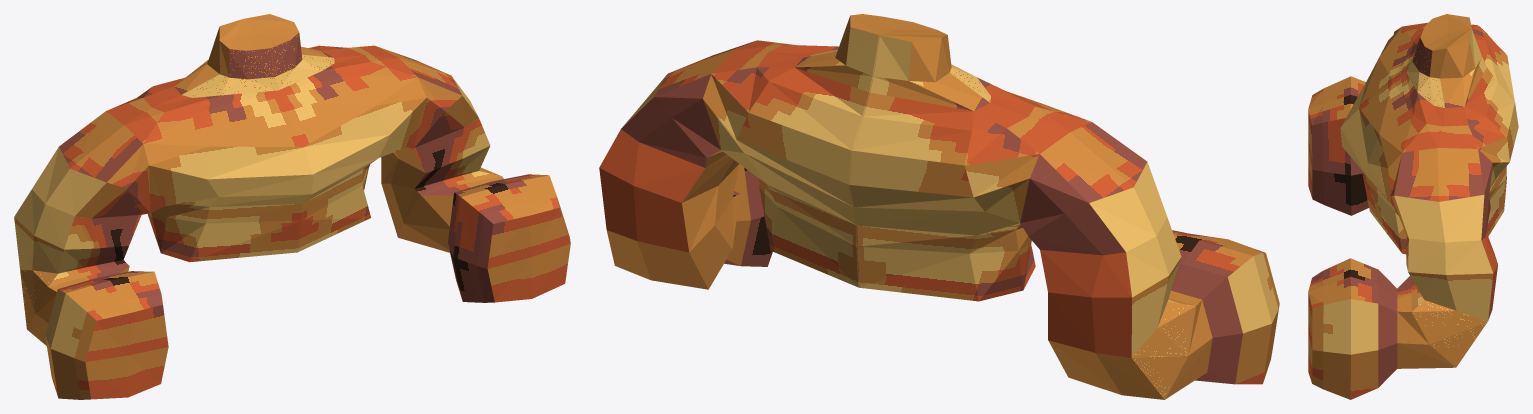
3 renders of one model, left to right at view 1: azimuth 30°, elevation 25°; view 2: azimuth 150°, elevation 25°; view 3: azimuth 270°, elevation 25°, orthographic. The views are drawn at different scales.
Parts seen in each view (by area): view 1: Sphere.017_Sphere.018; view 2: Sphere.017_Sphere.018; view 3: Sphere.017_Sphere.018.
Part boxes in pixels (bbox=[...]): Sphere.017_Sphere.018: bbox=[14, 14, 570, 399]; Sphere.017_Sphere.018: bbox=[599, 14, 1279, 399]; Sphere.017_Sphere.018: bbox=[1308, 14, 1518, 399].
Bounding box in the file's own units: 1.07 × 0.5543 × 0.4016.
